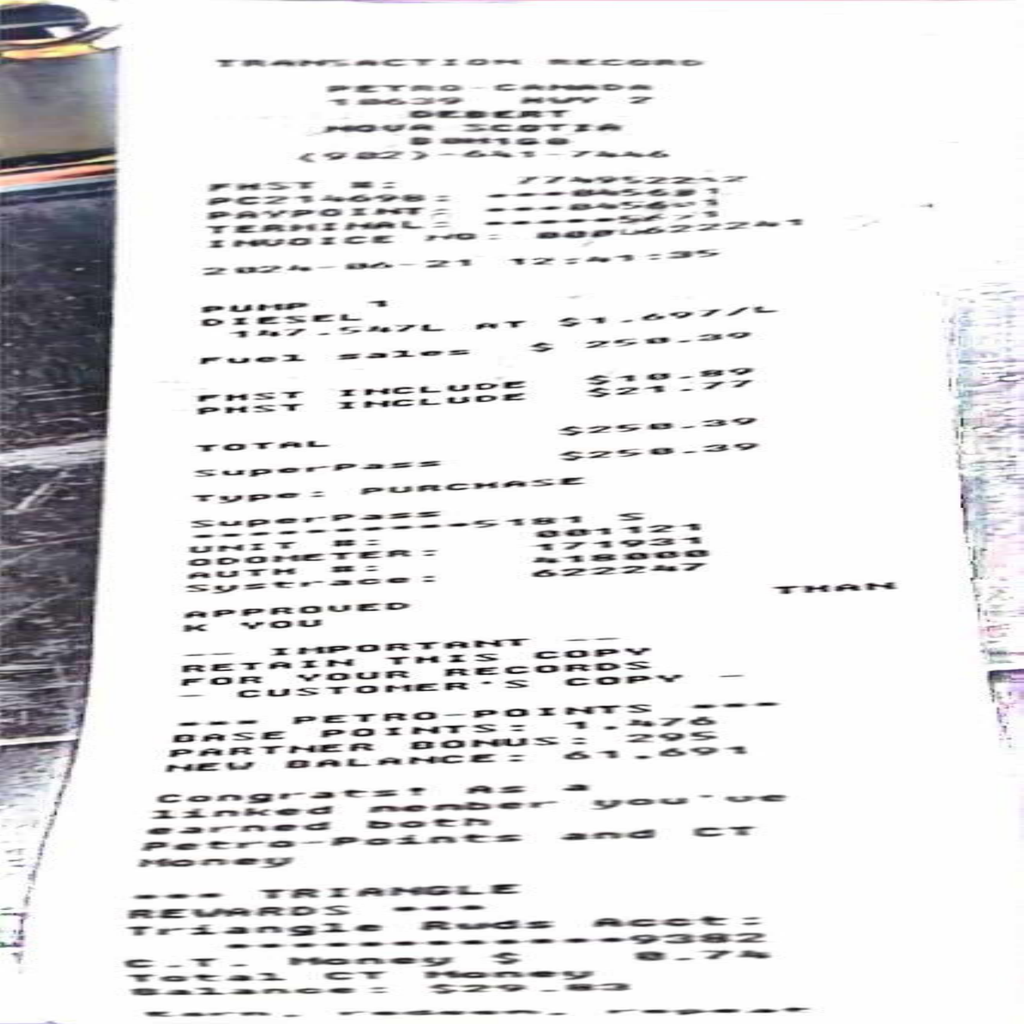recipt: (17, 23, 1007, 1005)
